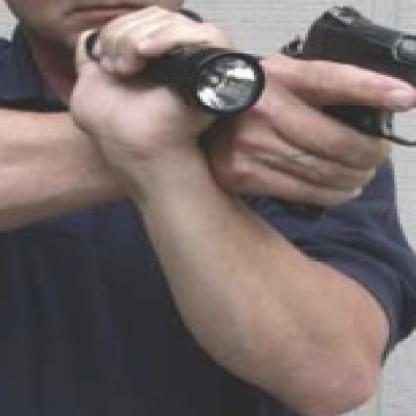gun: (243, 4, 413, 233)
